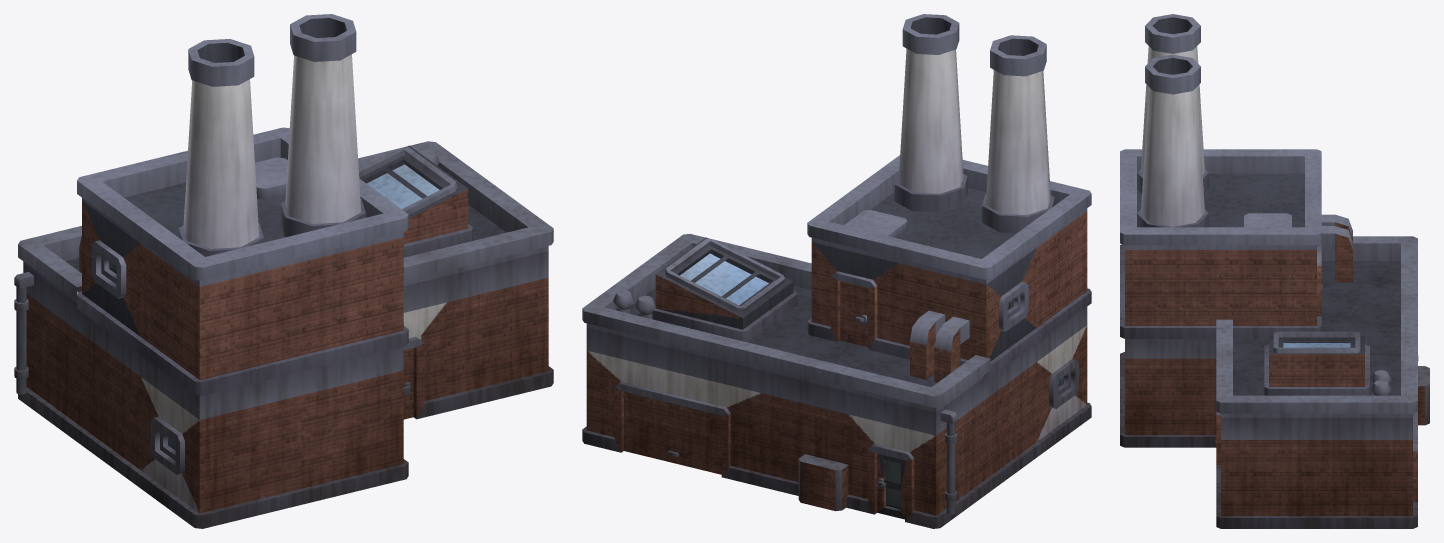
The model's file is building-e-brown.glb.
The picture shows the model from 3 angles, left to right: view 1: azimuth 30°, elevation 25°; view 2: azimuth 150°, elevation 25°; view 3: azimuth 270°, elevation 25°; orthographic projection. The views are drawn at different scales.
Visible parts, largest first — view 1: building-e; view 2: building-e; view 3: building-e.
Part boxes in pixels (box(x1,y1,x2,y2)): building-e: box(14, 14, 553, 528); building-e: box(582, 14, 1091, 528); building-e: box(1120, 14, 1429, 528).
Bounding box in the file's own units: 1.68 × 1.65 × 1.29.
1 material, 1 textured.
